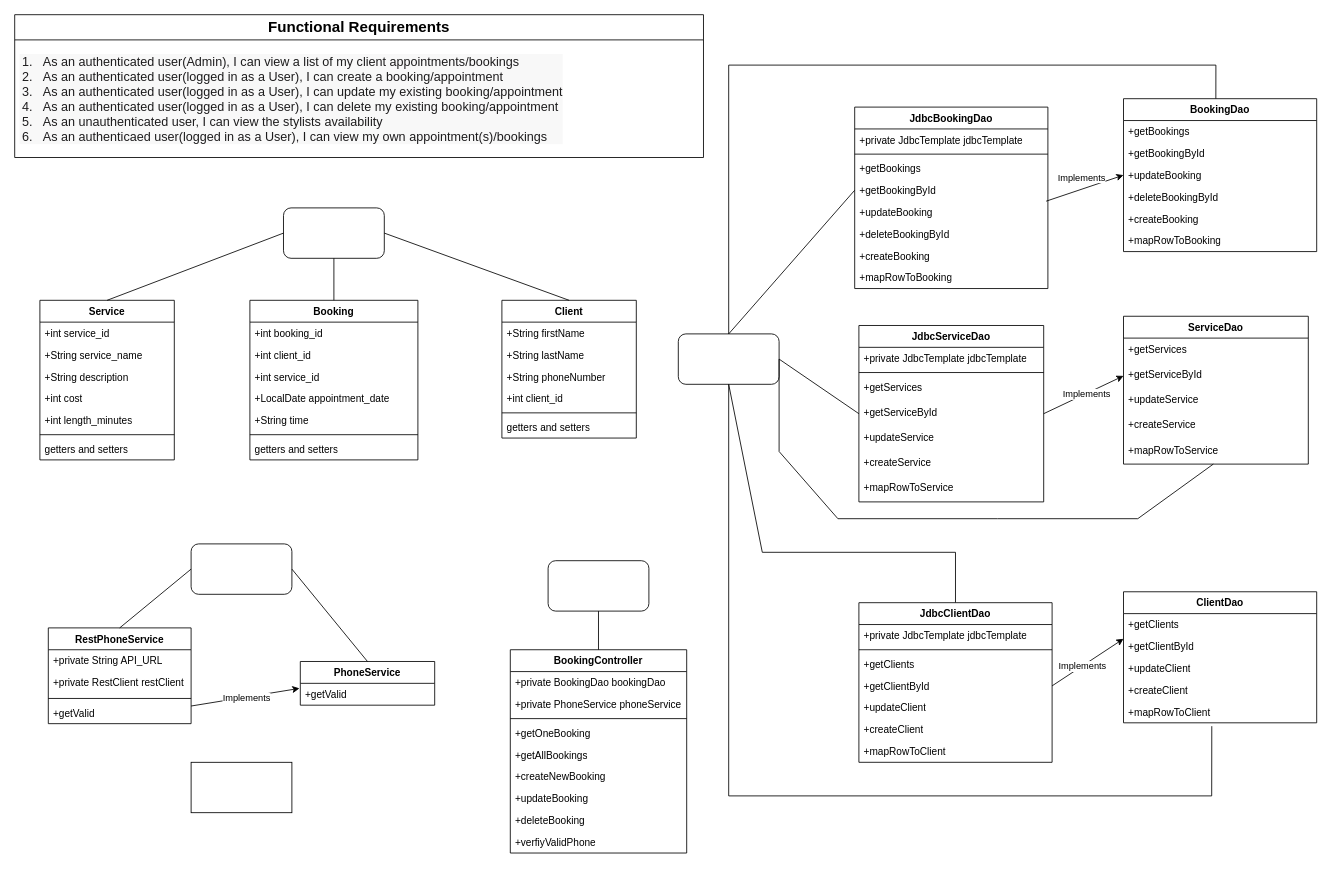
Some shapes in this 1331 by 870 pixel diagram are drawn without their labels. The shapes that lost their labels are listed below. From the top down, each one's centre as x and y in pixels, then its label:
At point 333,232: "model".
At point 728,358: "dao".
At point 241,568: "services".
At point 598,585: "controller".
At point 241,787: "***There's a lot more methods/classes, just cant fit them all".
